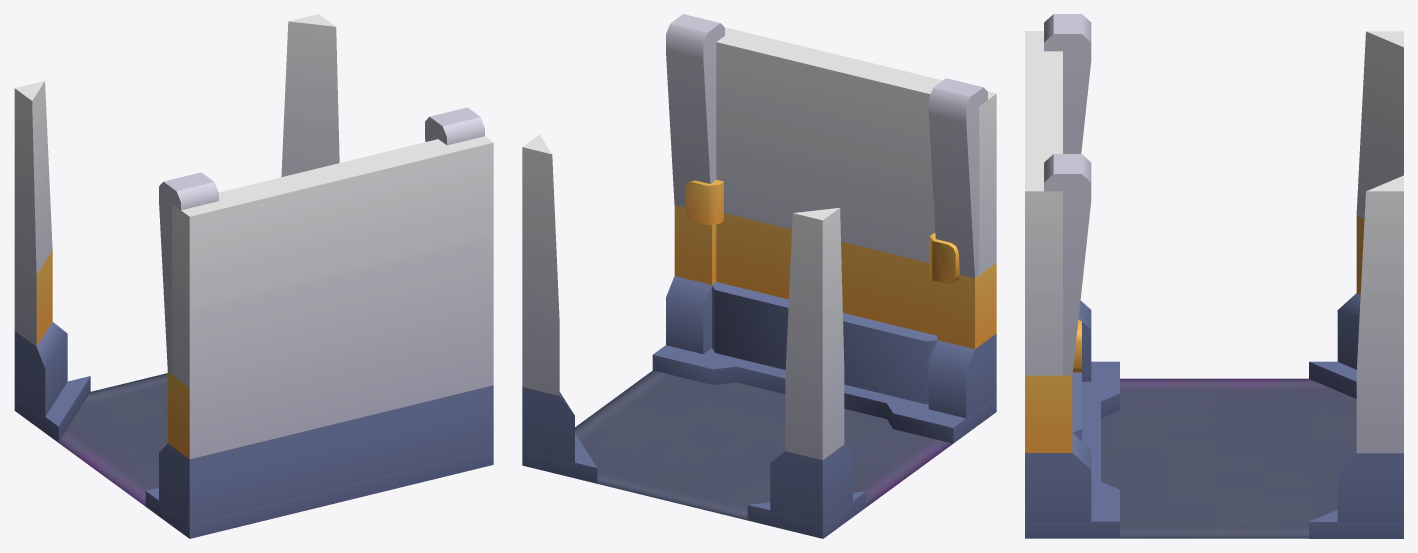
Rendered from corridor-junction.glb.
The picture shows the model from 3 angles, left to right: view 1: azimuth 30°, elevation 25°; view 2: azimuth 150°, elevation 25°; view 3: azimuth 270°, elevation 25°; orthographic projection. The views are drawn at different scales.
Parts seen in each view (by area): view 1: corridor-junction; view 2: corridor-junction; view 3: corridor-junction.
Boxes of the visible parts, box(x1,y1,x2,y2) form: corridor-junction: box(14, 14, 493, 538); corridor-junction: box(522, 14, 996, 538); corridor-junction: box(1025, 14, 1403, 538).
Size of the model in its own units: 4.01 by 4.25 by 4.
1 material, 1 textured.
